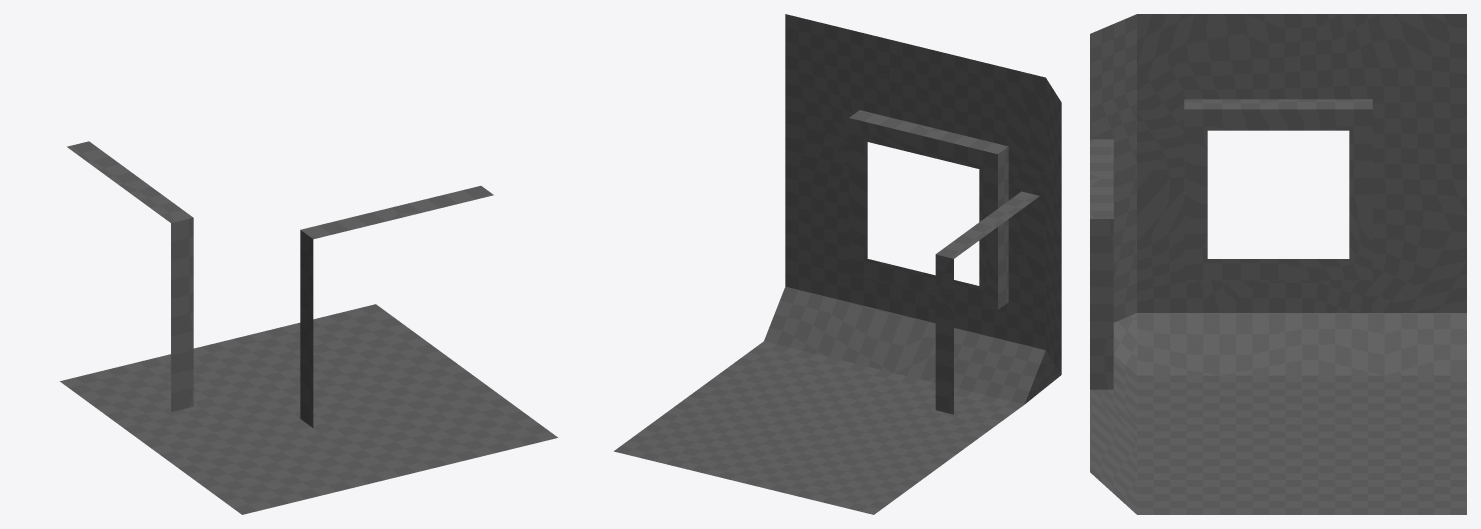
3 views of the same model, side by side, from view 1: azimuth 30°, elevation 25°; view 2: azimuth 150°, elevation 25°; view 3: azimuth 270°, elevation 25° (orthographic). The views are drawn at different scales.
Parts seen in each view (by area): view 1: 2; view 2: 2; view 3: 2.
Part boxes in pixels (x1,y1,x2,y2): 2: (60,141,557,514); 2: (613,14,1061,514); 2: (1090,14,1466,514).
Size of the model in its own units: 2 by 2 by 2.
Materials: 2 (2 with a texture image).
